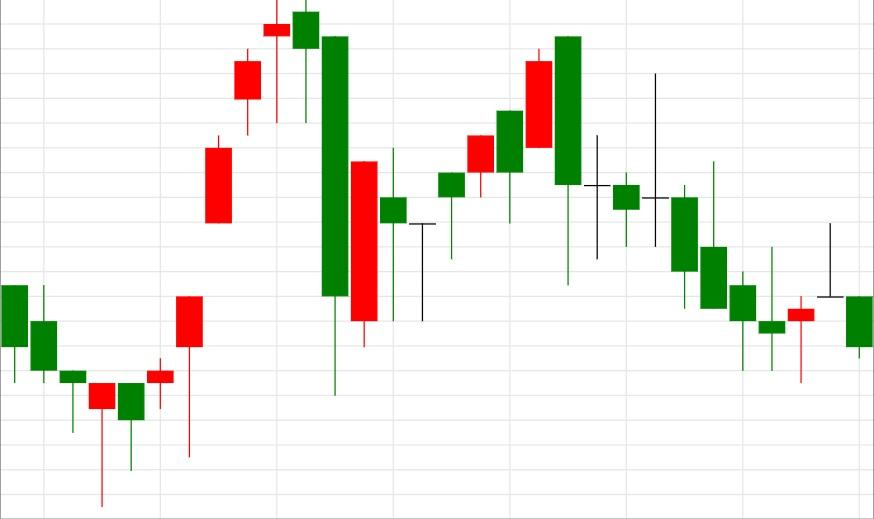bearish_engulfing_fall: (88, 0, 320, 507), (322, 36, 582, 396)
hammer_rise: (0, 285, 116, 507)
